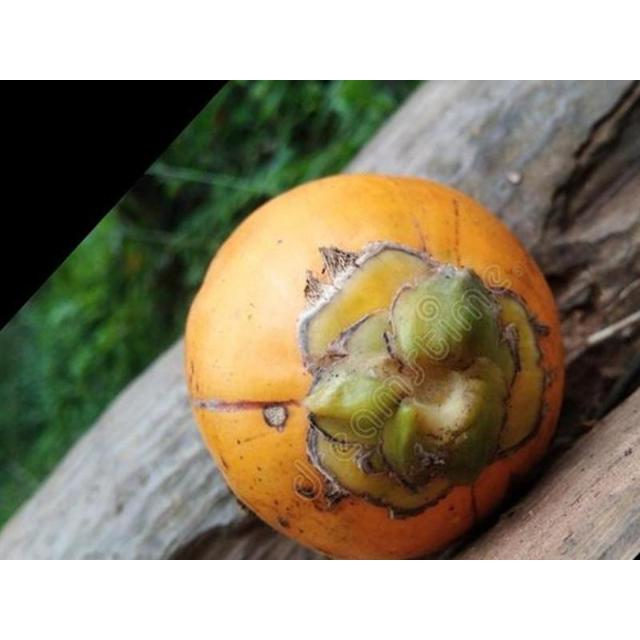good: (184, 174, 564, 559)
